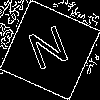N: (24, 24, 75, 80)
